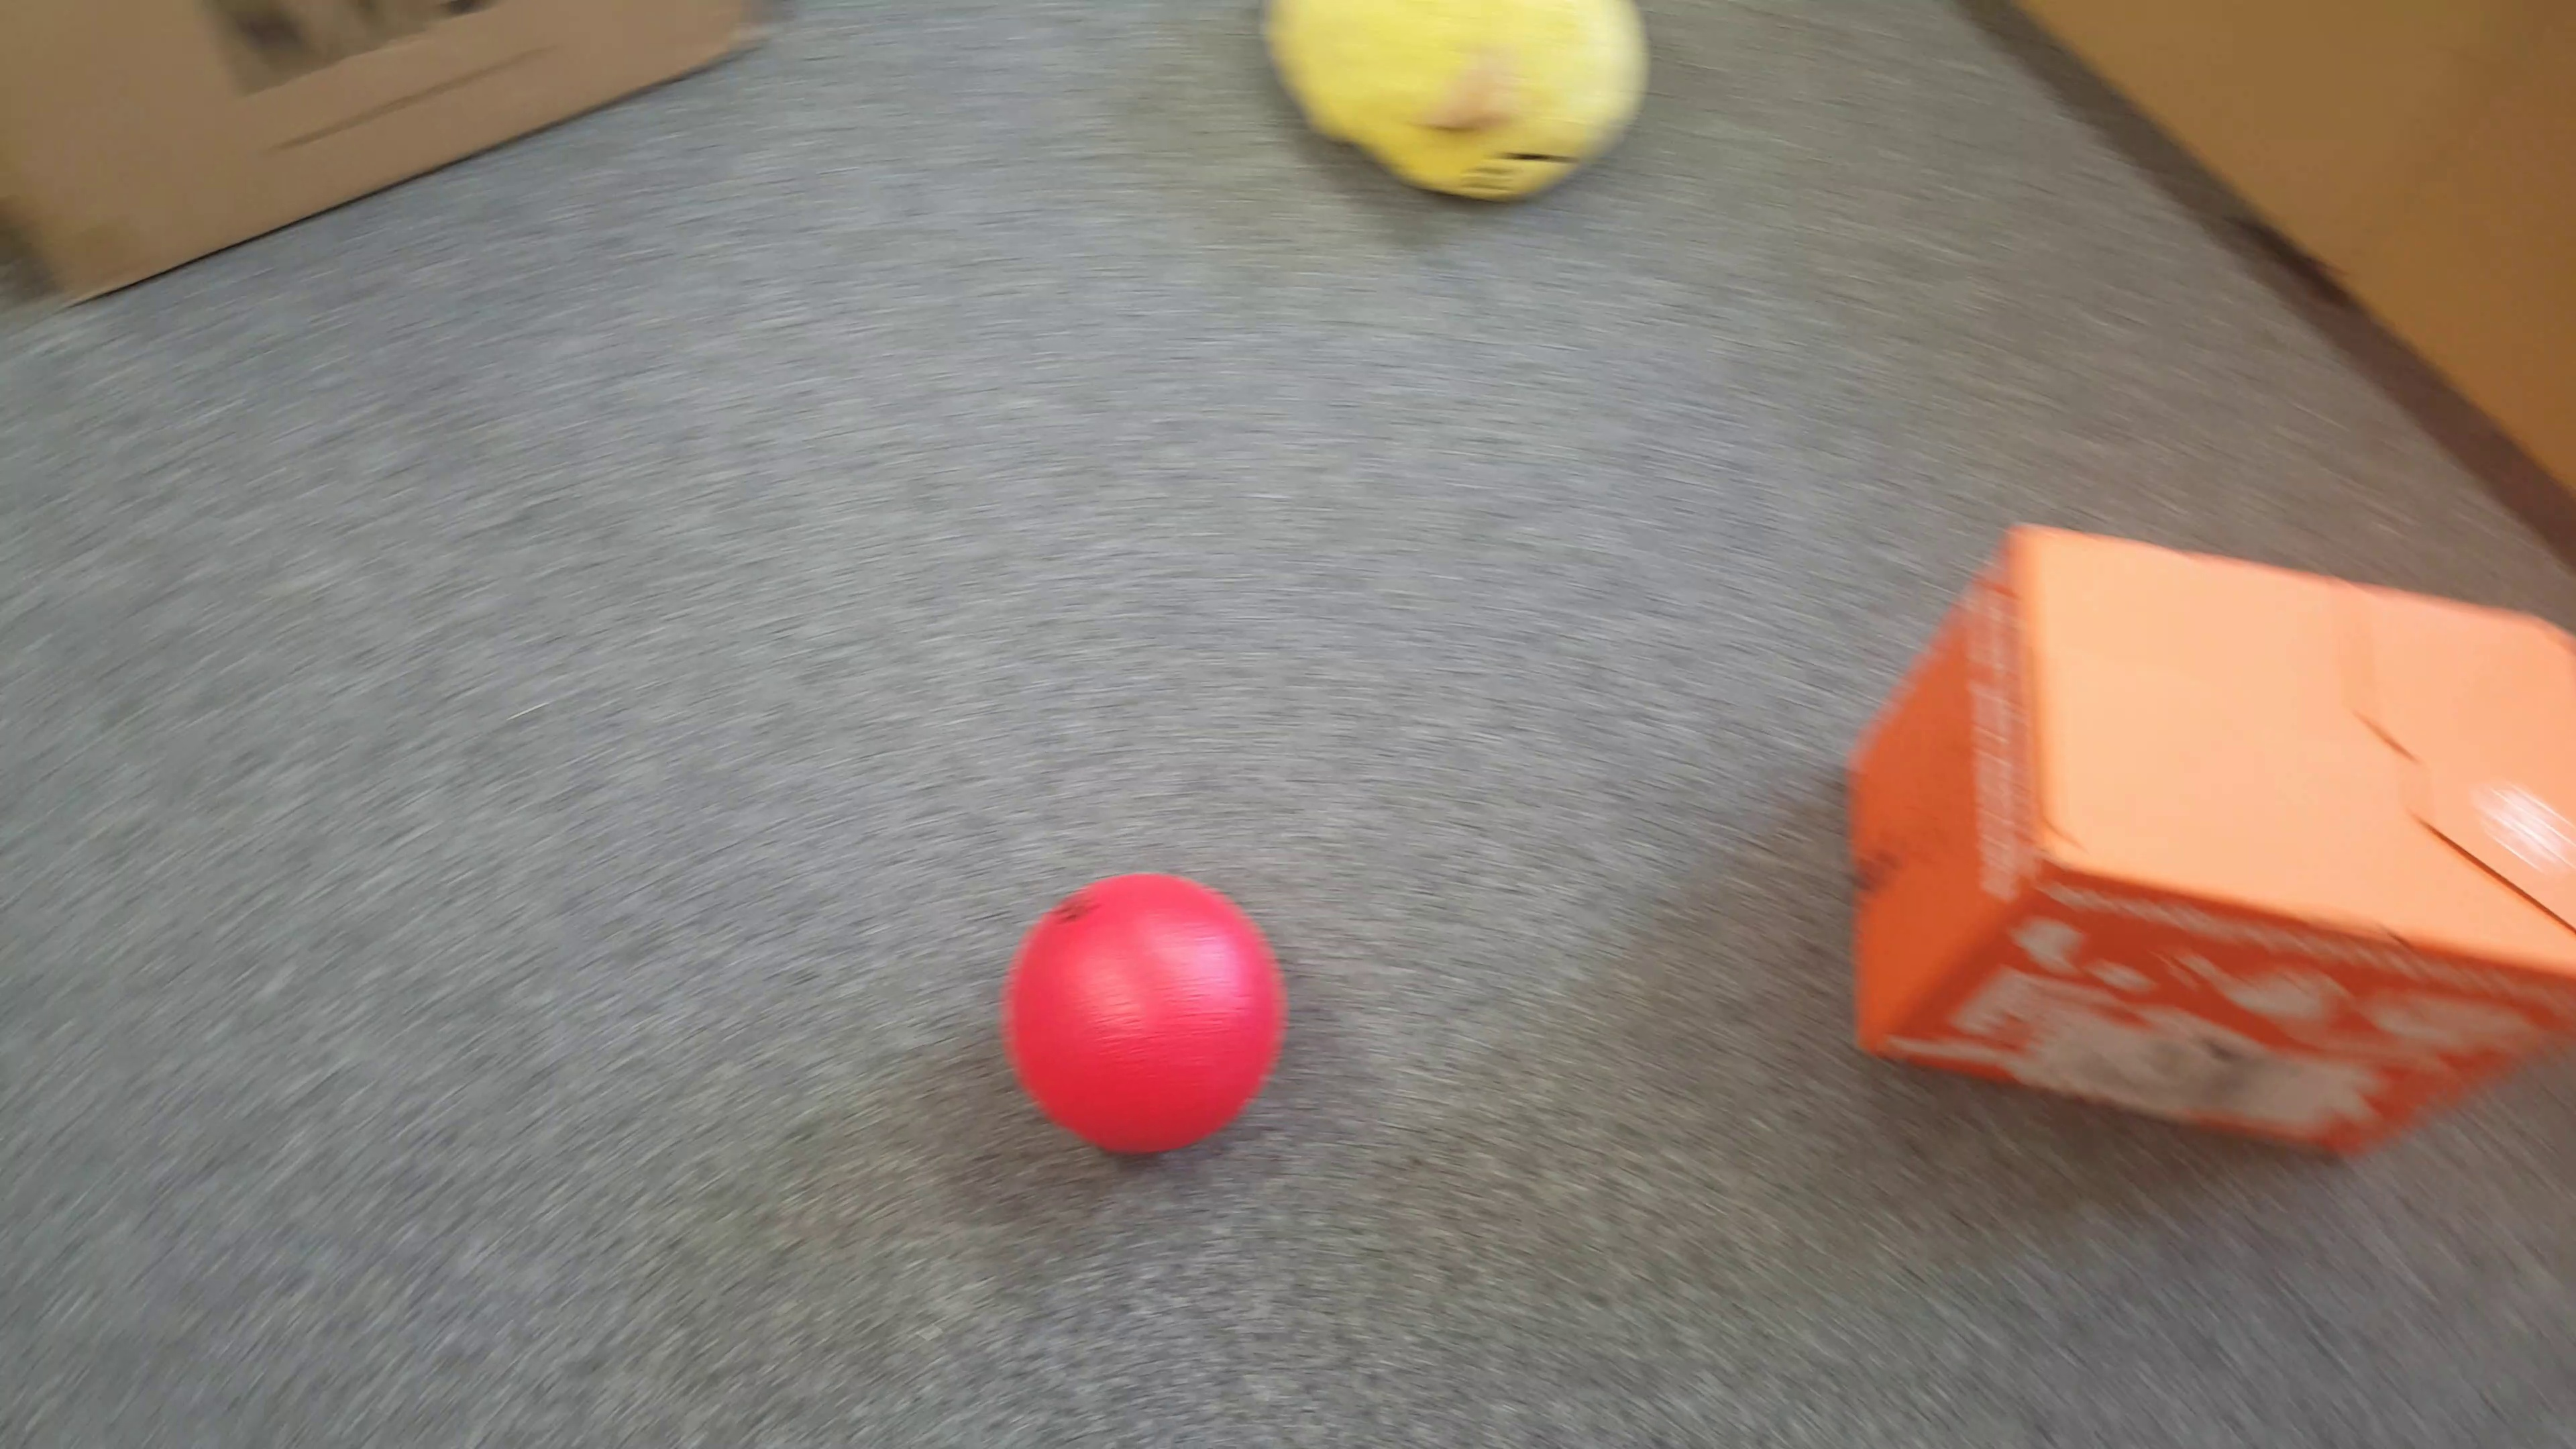grasp: (1260, 2, 1654, 209)
kick: (998, 867, 1293, 1162)
push: (1840, 525, 2576, 1166)
